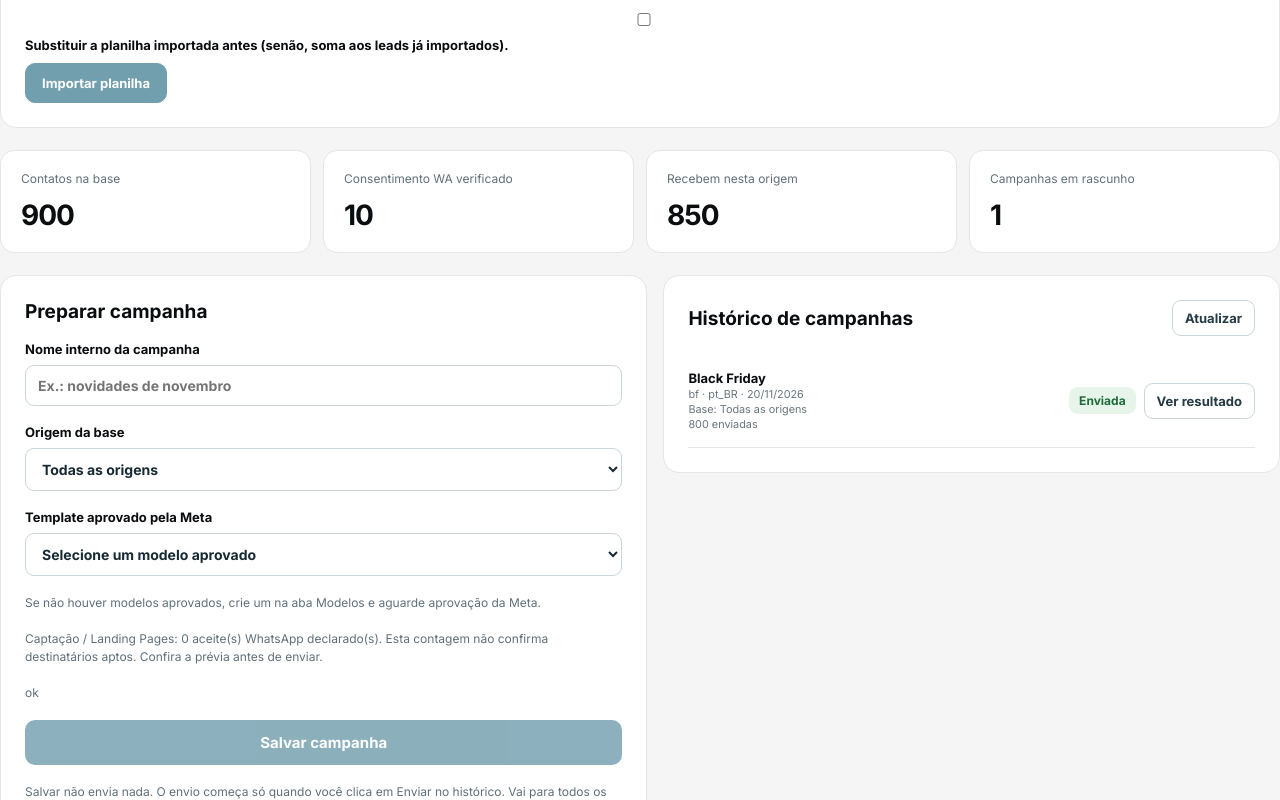
Test: Disparos em massa › agenda e mostra o resultado de uma campanha enviada
(page scrolled)
Click the button "Ver resultado" at (1199, 400), box [1144, 382, 1255, 418]
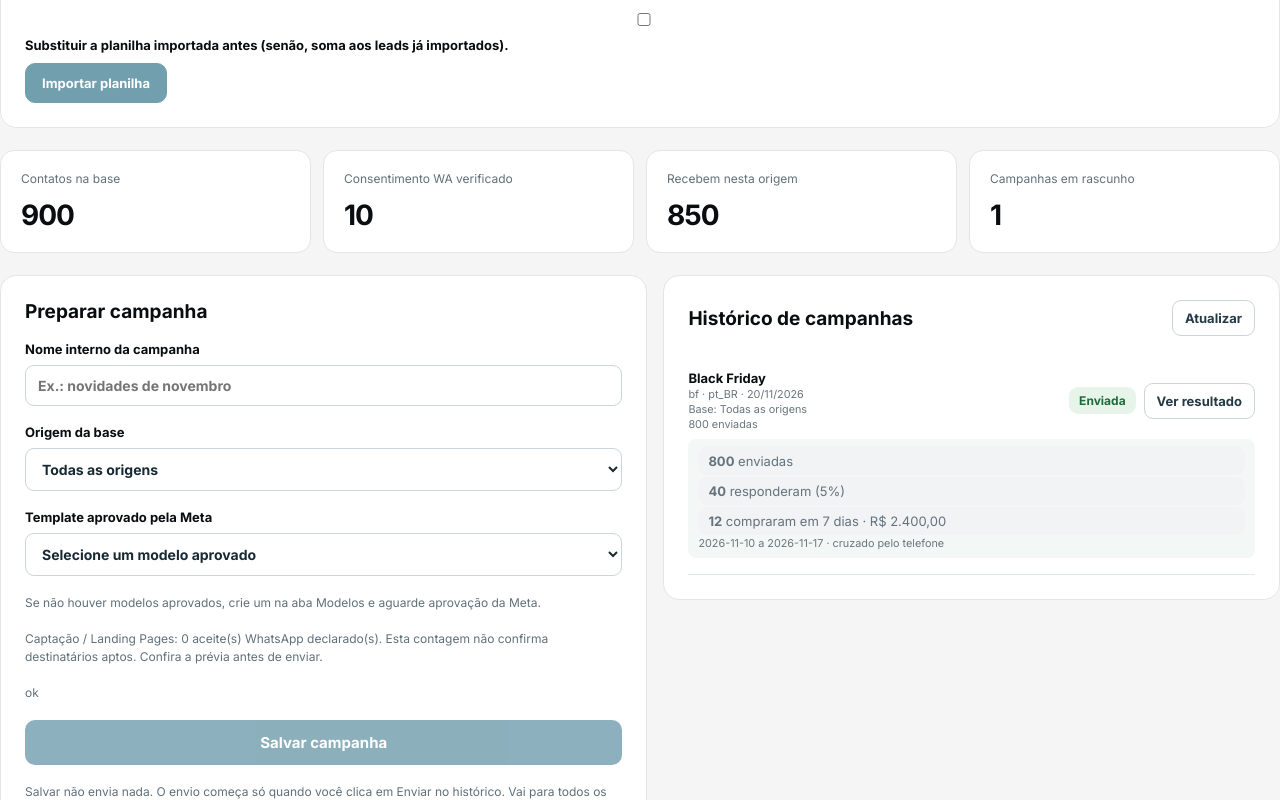
expect the text "40 responderam (5%)" is shown: met, box [698, 477, 1245, 505]
expect the text "12 compraram em 7 dias" is shown: met, box [698, 507, 1245, 535]
